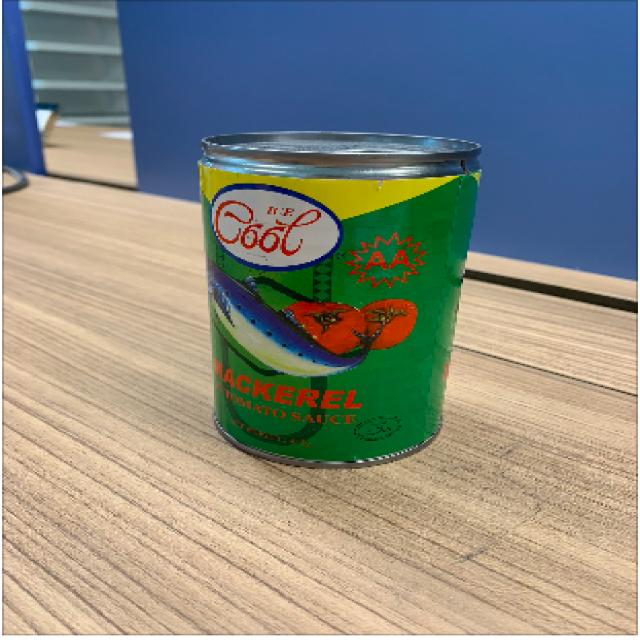object_name: (204, 131, 449, 462)
